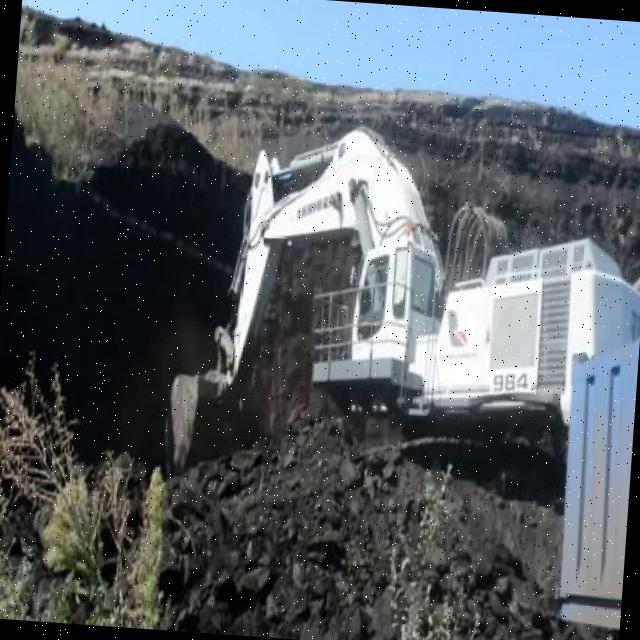Excavator: (152, 115, 640, 506)
